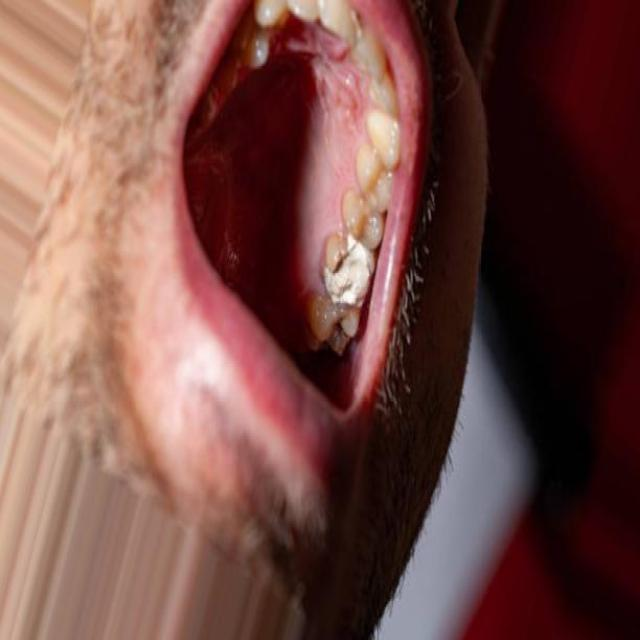caries: (321, 234, 377, 311)
